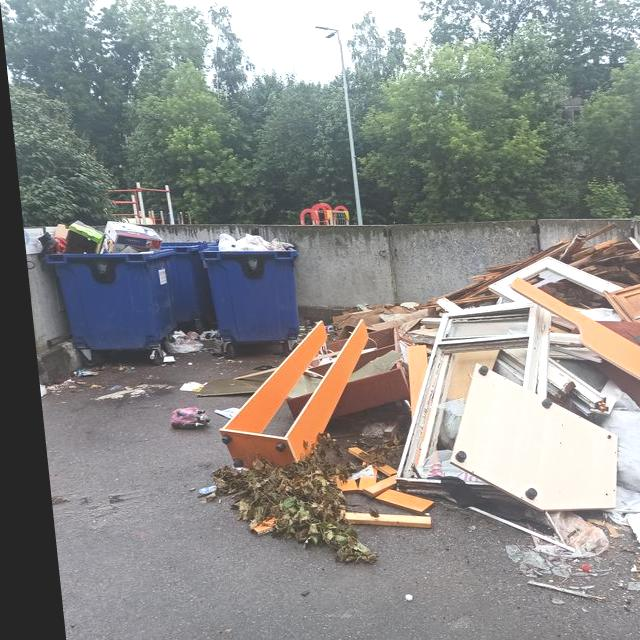Trash_Can_Empty: (156, 241, 210, 321)
Trash_Can_Full: (37, 221, 175, 347), (194, 233, 299, 342)
